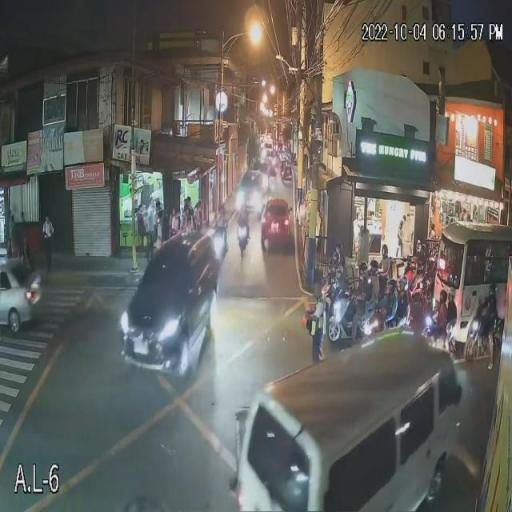helmet: (398, 278, 408, 296), (387, 278, 395, 296), (448, 290, 457, 305), (439, 290, 446, 307), (380, 245, 387, 262), (370, 262, 379, 275), (358, 262, 366, 276), (332, 253, 340, 267), (488, 285, 496, 298)
motorcycle: (354, 314, 410, 368), (416, 321, 461, 374), (334, 289, 373, 342), (470, 307, 498, 364), (320, 275, 334, 315)
rider: (430, 292, 446, 377), (355, 261, 367, 345), (485, 284, 496, 360), (448, 290, 457, 363), (368, 262, 379, 311), (378, 245, 390, 287), (330, 251, 343, 287)
